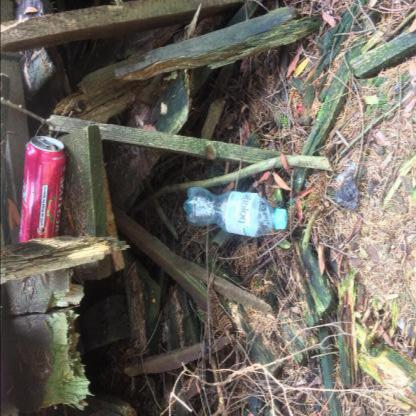Bottle: (277, 209, 287, 230)
Bottle cap: (184, 187, 286, 238)
Can: (18, 136, 66, 244)
Pop tab: (37, 137, 52, 147)
